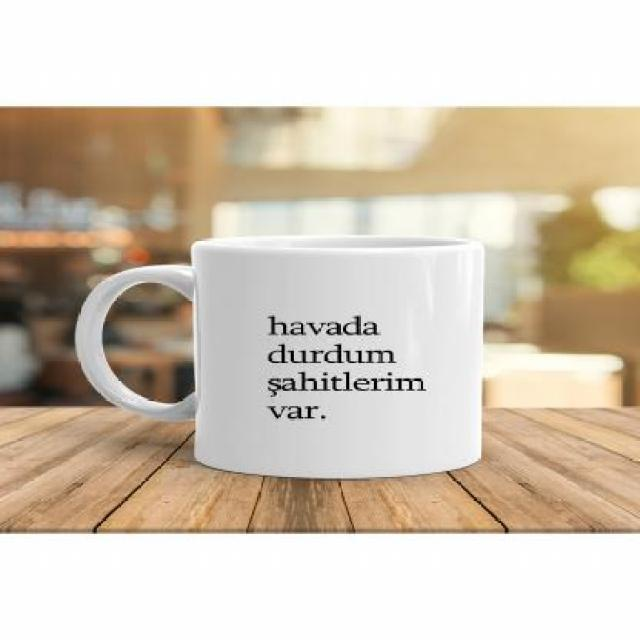taza: (71, 232, 484, 474)
